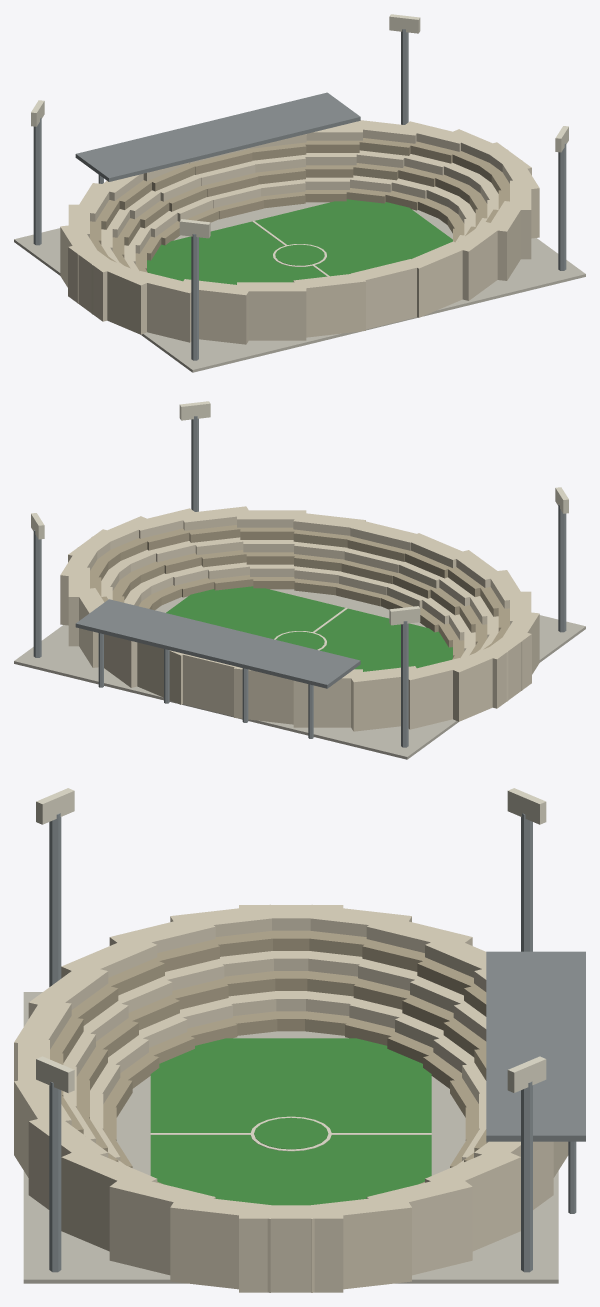
Rendered from stadium.glb.
3 views of the same model, one above another, from view 1: azimuth 30°, elevation 25°; view 2: azimuth 150°, elevation 25°; view 3: azimuth 270°, elevation 25° (orthographic). The views are drawn at different scales.
Parts seen in each view (by area): view 1: stadium_stone, stadium_stone_dark, stadium_pitch, stadium_zinc, stadium_concrete, stadium_steel, stadium_lane; view 2: stadium_stone, stadium_stone_dark, stadium_pitch, stadium_zinc, stadium_concrete, stadium_steel, stadium_lane; view 3: stadium_stone, stadium_pitch, stadium_stone_dark, stadium_zinc, stadium_concrete, stadium_steel, stadium_lane.
Part boxes in pixels (box(x1,y1,x2,y2)): stadium_stone: box(60, 120, 539, 344); stadium_stone_dark: box(90, 138, 509, 272); stadium_pitch: box(147, 199, 452, 284); stadium_zinc: box(75, 92, 360, 181); stadium_concrete: box(14, 202, 585, 372); stadium_steel: box(33, 29, 566, 360); stadium_lane: box(31, 14, 568, 276); stadium_stone: box(60, 506, 539, 731); stadium_stone_dark: box(90, 525, 509, 659); stadium_pitch: box(166, 586, 452, 671); stadium_zinc: box(75, 599, 360, 688); stadium_concrete: box(14, 589, 585, 759); stadium_steel: box(33, 416, 566, 747); stadium_lane: box(31, 401, 568, 650); stadium_stone: box(14, 904, 568, 1292); stadium_pitch: box(150, 1038, 431, 1205); stadium_stone_dark: box(50, 930, 486, 1183); stadium_zinc: box(486, 951, 585, 1141); stadium_concrete: box(23, 992, 558, 1283); stadium_steel: box(49, 813, 576, 1272); stadium_lane: box(36, 788, 546, 1151).
Size of the model in its own units: 164 by 51 by 126.
